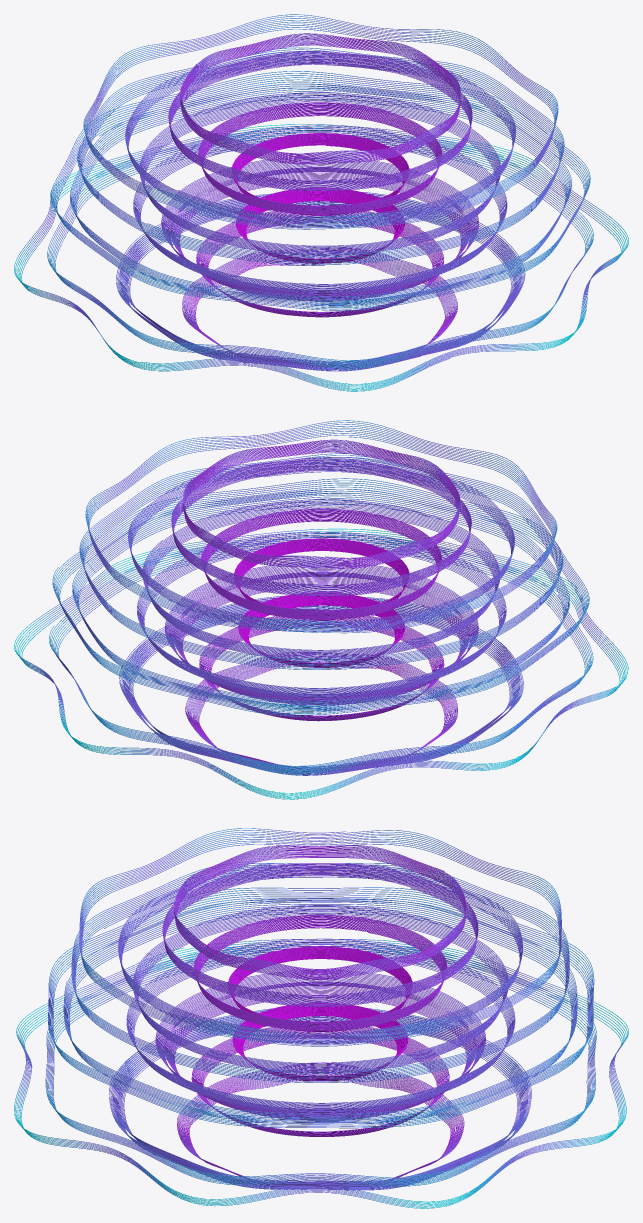
The model's file is coil_2_field_lines.gltf.
The picture shows the model from 3 angles, top to bottom: view 1: azimuth 30°, elevation 25°; view 2: azimuth 150°, elevation 25°; view 3: azimuth 270°, elevation 25°; orthographic projection. The views are drawn at different scales.
Parts seen in each view (by area): view 1: Renderer Node; view 2: Renderer Node; view 3: Renderer Node.
Boxes of the visible parts, x1,y1,x2,y2 form: Renderer Node: [14, 14, 628, 391]; Renderer Node: [14, 420, 628, 799]; Renderer Node: [14, 828, 628, 1208].
Size of the model in its own units: 1.08 by 0.4584 by 1.09.
1 material, 1 textured.
